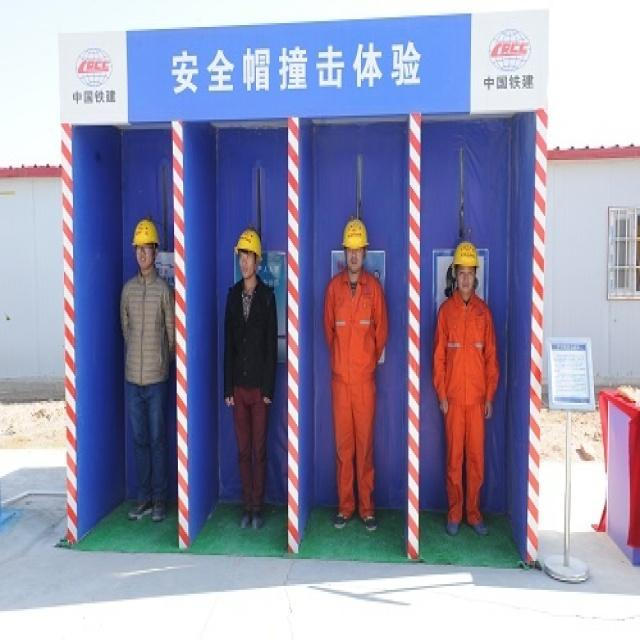helmet: (451, 319, 480, 401), (341, 285, 369, 368), (236, 303, 264, 380), (131, 291, 159, 368)
